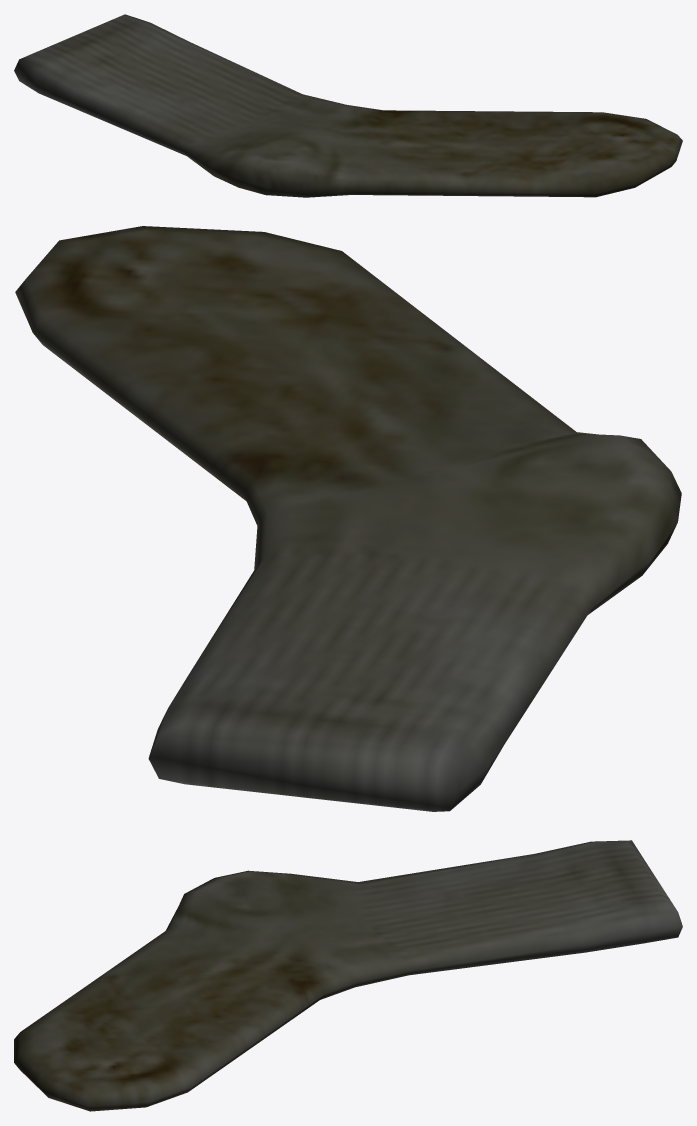
The model's file is dirty_sock_mx_1.obj.
3 renders of one model, top to bottom at view 1: azimuth 30°, elevation 25°; view 2: azimuth 150°, elevation 25°; view 3: azimuth 270°, elevation 25°, orthographic. The views are drawn at different scales.
Parts seen in each view (by area): view 1: dirty_sock_mx_1; view 2: dirty_sock_mx_1; view 3: dirty_sock_mx_1.
Part boxes in pixels (x1,y1,x2,y2): dirty_sock_mx_1: (14, 14, 682, 197); dirty_sock_mx_1: (15, 226, 681, 811); dirty_sock_mx_1: (14, 840, 682, 1111).
Size of the model in its own units: 0.2861 by 0.02 by 0.325.
